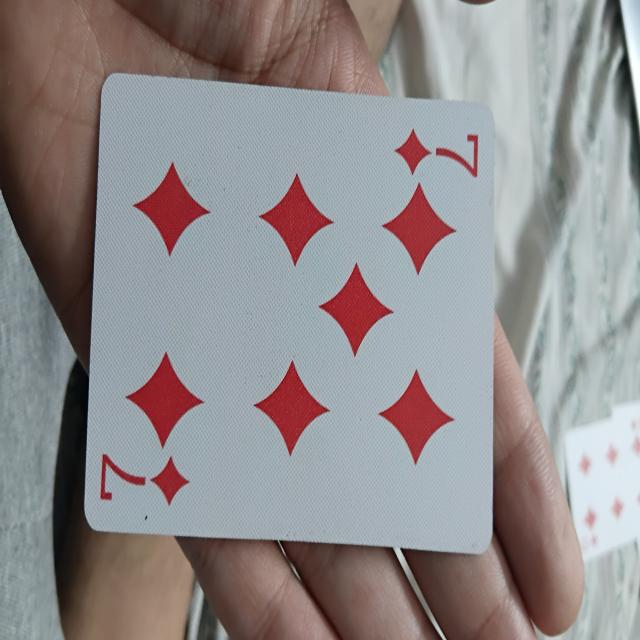7D: (81, 85, 504, 548)
